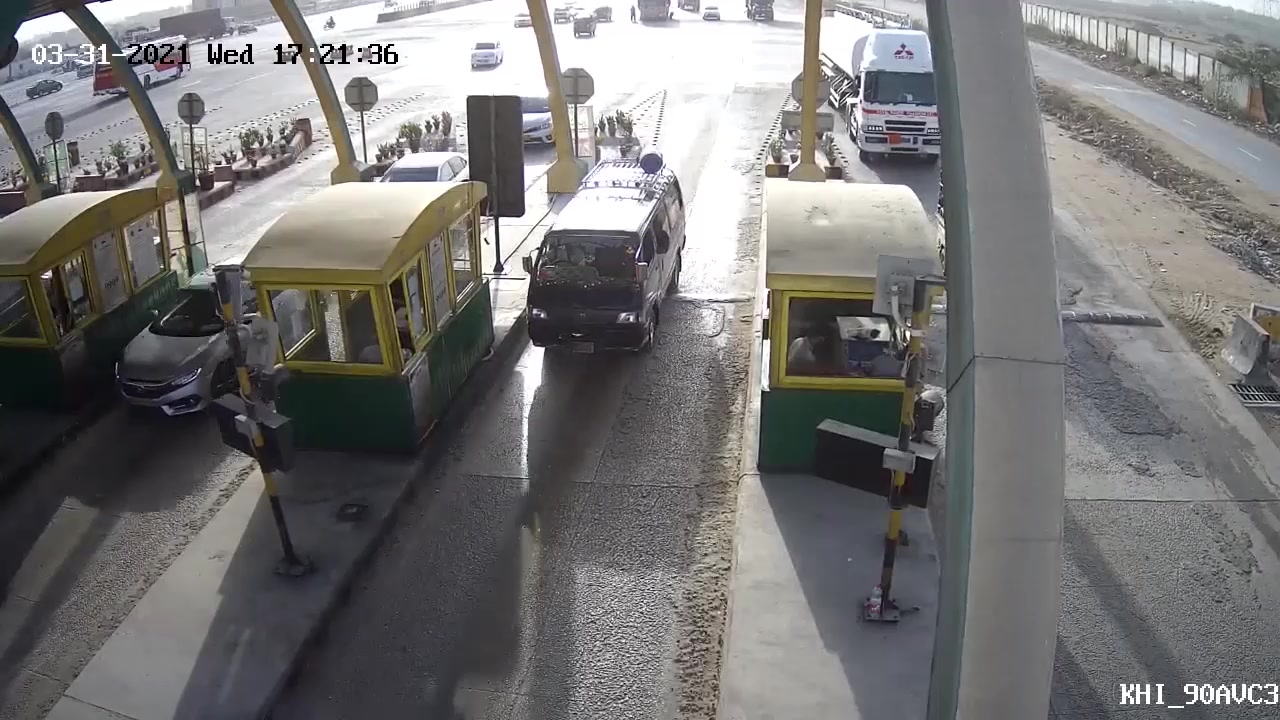F3: (518, 142, 685, 369)
